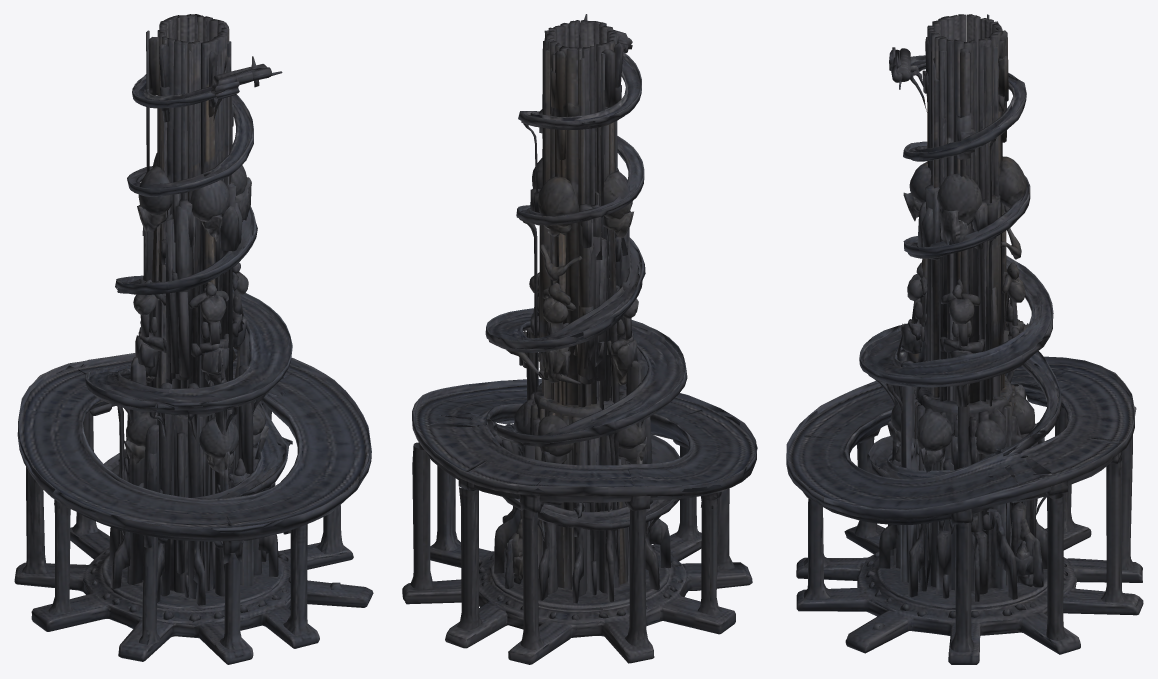
File: Meshy_AI_Citadel_of_Storms_1029020556_texture.glb
3 views of the same model, side by side, from view 1: azimuth 30°, elevation 25°; view 2: azimuth 150°, elevation 25°; view 3: azimuth 270°, elevation 25° (orthographic).
Bounding box in the file's own units: 0.543 × 0.9521 × 0.5483.
Materials: 1 (1 with a texture image).
